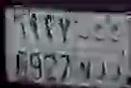2: (43, 14, 58, 82)
7: (56, 17, 72, 83)
9: (29, 11, 43, 82)
J: (93, 19, 108, 82), (110, 23, 122, 83)
